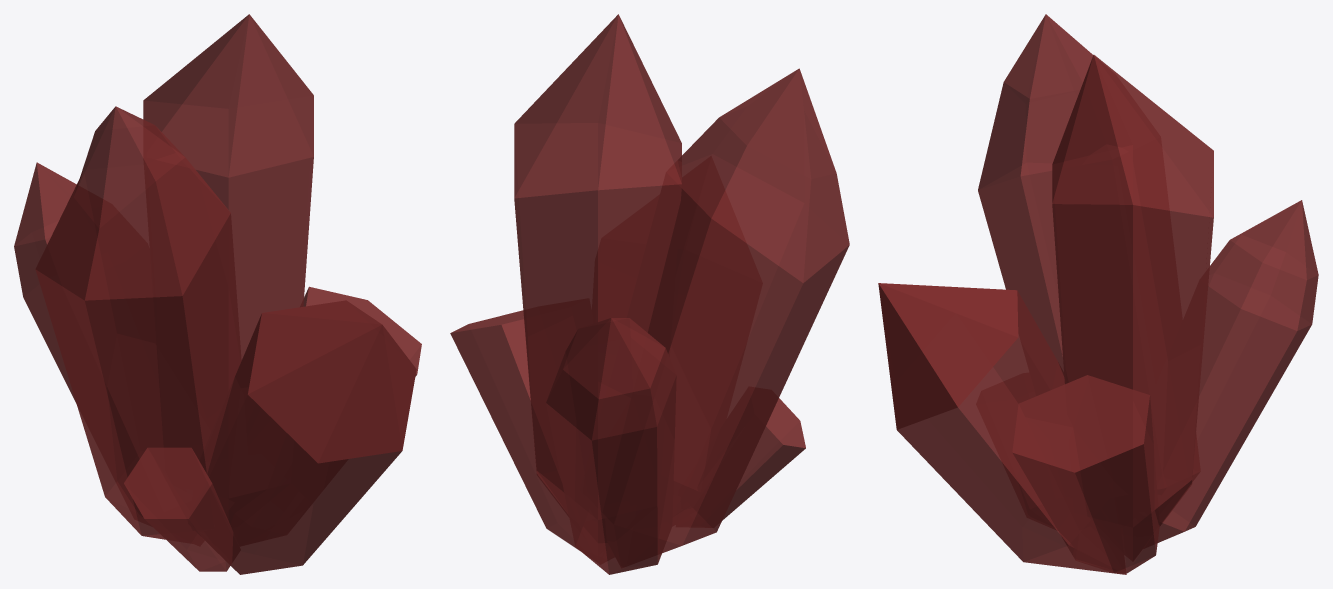
The model's file is kristal2.fbx.
3 views of the same model, side by side, from view 1: azimuth 30°, elevation 25°; view 2: azimuth 150°, elevation 25°; view 3: azimuth 270°, elevation 25° (orthographic). The views are drawn at different scales.
Visible parts, largest first — view 1: pCone31; view 2: pCone31; view 3: pCone31.
Boxes of the visible parts, <box> form: pCone31: <box>14,14,421,574</box>; pCone31: <box>450,14,849,574</box>; pCone31: <box>878,14,1318,574</box>.
Bounding box in the file's own units: 4.26 × 6.14 × 4.72.
